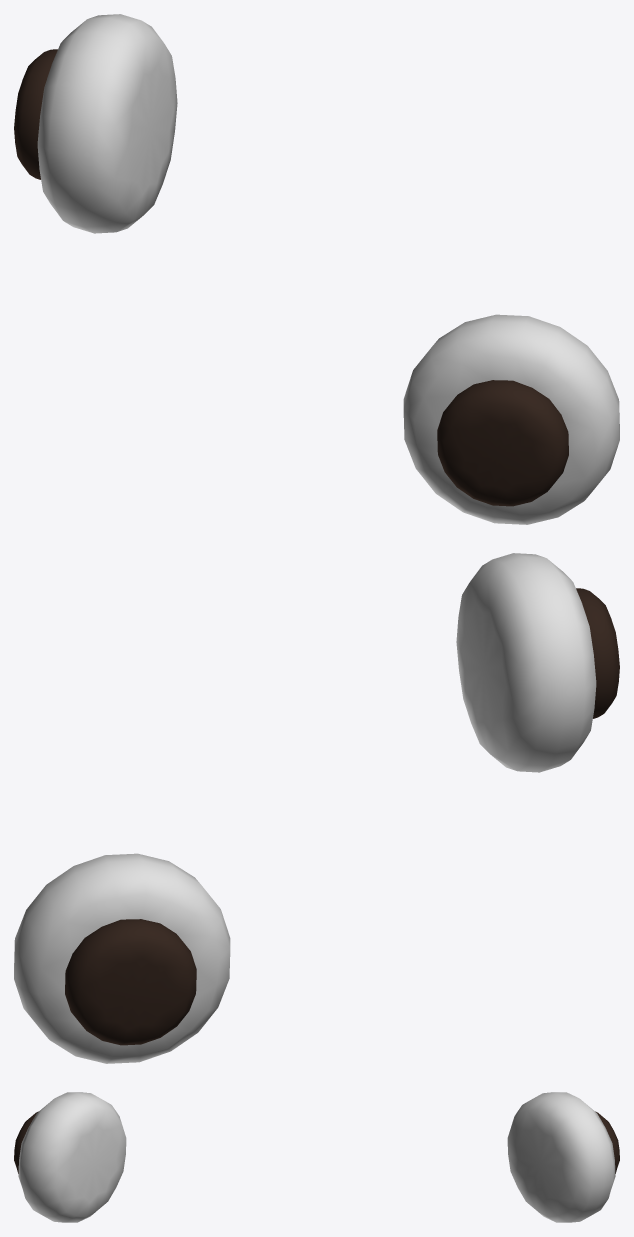
The model's file is eyes_with_pupils.fbx.
The picture shows the model from 3 angles, top to bottom: view 1: azimuth 30°, elevation 25°; view 2: azimuth 150°, elevation 25°; view 3: azimuth 270°, elevation 25°; orthographic projection. The views are drawn at different scales.
Parts seen in each view (by area): view 1: Mouton_high.003; view 2: Mouton_high.003; view 3: Mouton_high.003.
Part boxes in pixels (x1,y1,x2,y2): Mouton_high.003: (14,14,619,524); Mouton_high.003: (14,553,619,1063); Mouton_high.003: (14,1092,619,1222).
Size of the model in its own units: 4.42 by 5.01 by 22.89.
